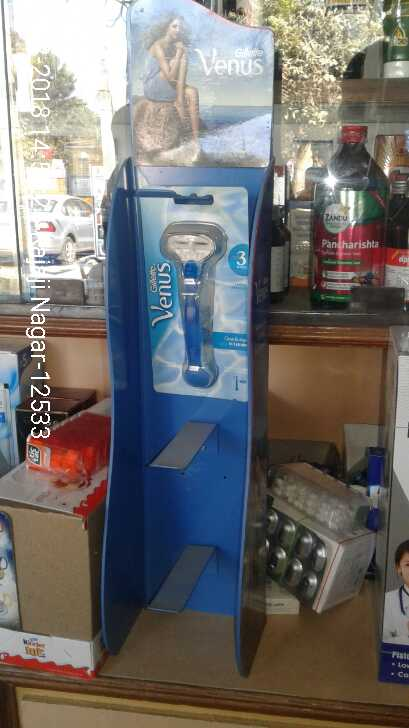venus: (136, 178, 256, 398)
